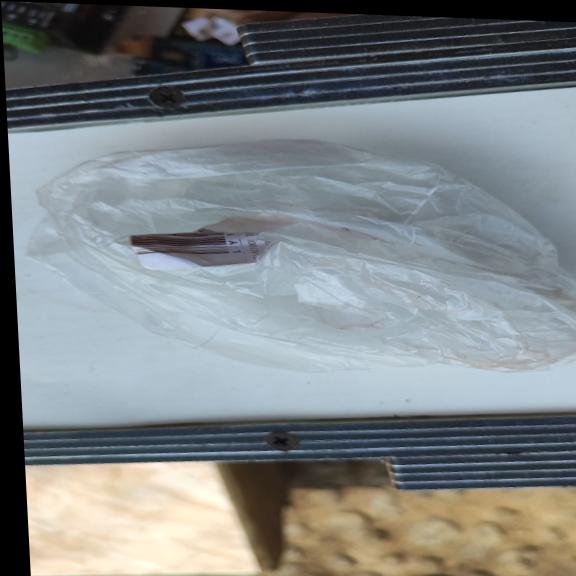Plastik: (13, 128, 576, 377)
